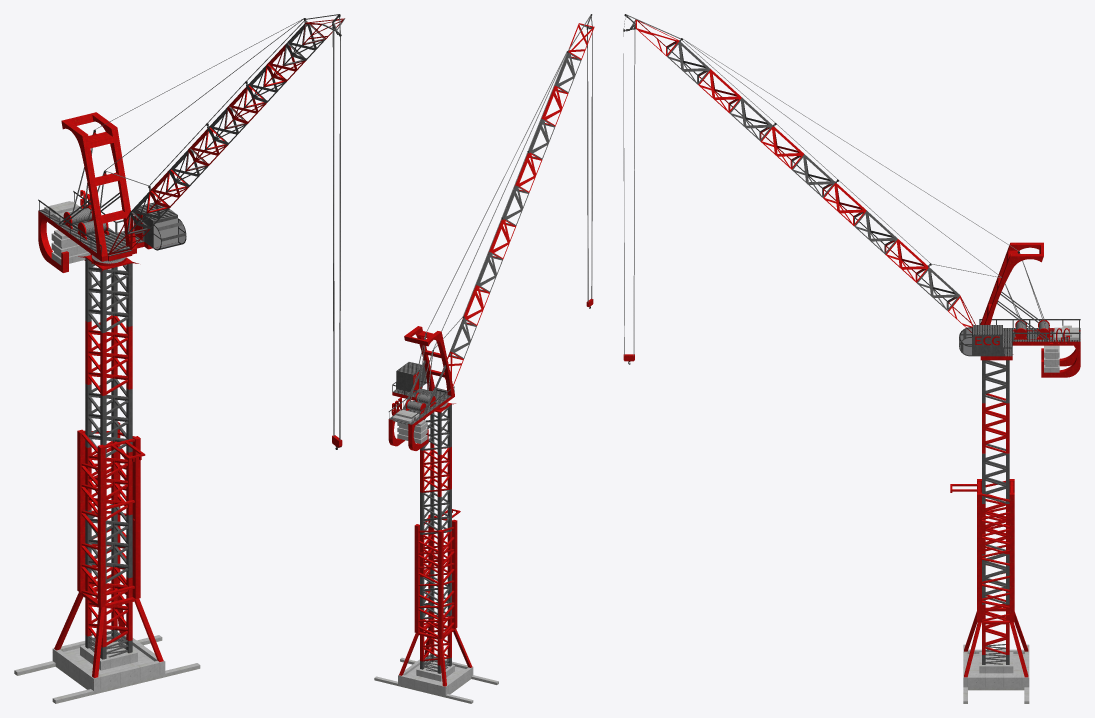
The model's file is tower-crane-luffing.glb.
3 renders of one model, left to right at view 1: azimuth 30°, elevation 25°; view 2: azimuth 150°, elevation 25°; view 3: azimuth 270°, elevation 25°, orthographic. The views are drawn at different scales.
Visible parts, largest first — view 1: Geom3D_14, Geom3D_16, Geom3D_20, Geom3D_11, Geom3D_9, Geom3D_4, Geom3D_18, Geom3D_8, Geom3D_17; view 2: Geom3D_14, Geom3D_16, Geom3D_20, Geom3D_11, Geom3D_9, Geom3D_8, Geom3D_4, Geom3D_18; view 3: Geom3D_14, Geom3D_16, Geom3D_11, Geom3D_20, Geom3D_9, Geom3D_8, Geom3D_18, Geom3D_4.
Boxes of the visible parts, left/top/right/bottom form: Geom3D_14: left=38, top=112, right=163, bottom=678; Geom3D_16: left=38, top=191, right=186, bottom=659; Geom3D_20: left=14, top=201, right=200, bottom=703; Geom3D_11: left=59, top=15, right=345, bottom=234; Geom3D_9: left=93, top=18, right=344, bottom=254; Geom3D_4: left=332, top=30, right=340, bottom=440; Geom3D_18: left=38, top=202, right=177, bottom=256; Geom3D_8: left=72, top=14, right=340, bottom=221; Geom3D_17: left=136, top=218, right=185, bottom=248; Geom3D_14: left=388, top=326, right=472, bottom=686; Geom3D_16: left=388, top=366, right=454, bottom=673; Geom3D_20: left=374, top=410, right=498, bottom=703; Geom3D_11: left=402, top=16, right=592, bottom=415; Geom3D_9: left=426, top=23, right=594, bottom=385; Geom3D_8: left=410, top=14, right=592, bottom=403; Geom3D_4: left=587, top=29, right=592, bottom=302; Geom3D_18: left=389, top=362, right=450, bottom=424; Geom3D_14: left=950, top=242, right=1080, bottom=677; Geom3D_16: left=959, top=319, right=1080, bottom=664; Geom3D_11: left=625, top=16, right=1051, bottom=340; Geom3D_20: left=963, top=325, right=1078, bottom=703; Geom3D_9: left=635, top=20, right=1019, bottom=332; Geom3D_8: left=623, top=14, right=1045, bottom=328; Geom3D_18: left=973, top=325, right=1080, bottom=356; Geom3D_4: left=623, top=29, right=635, bottom=355.
Bounding box in the file's own units: 13.4 × 73.08 × 45.8.
Materials: 8 (6 with a texture image).
